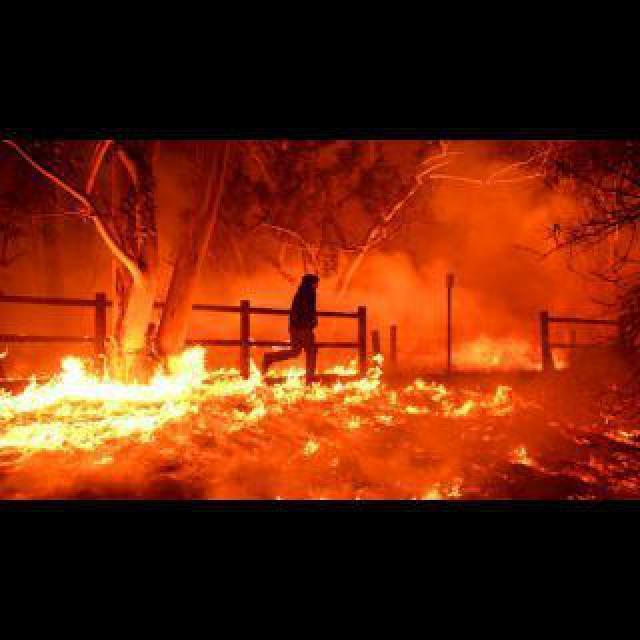fire: (2, 348, 238, 466), (241, 352, 393, 429)
